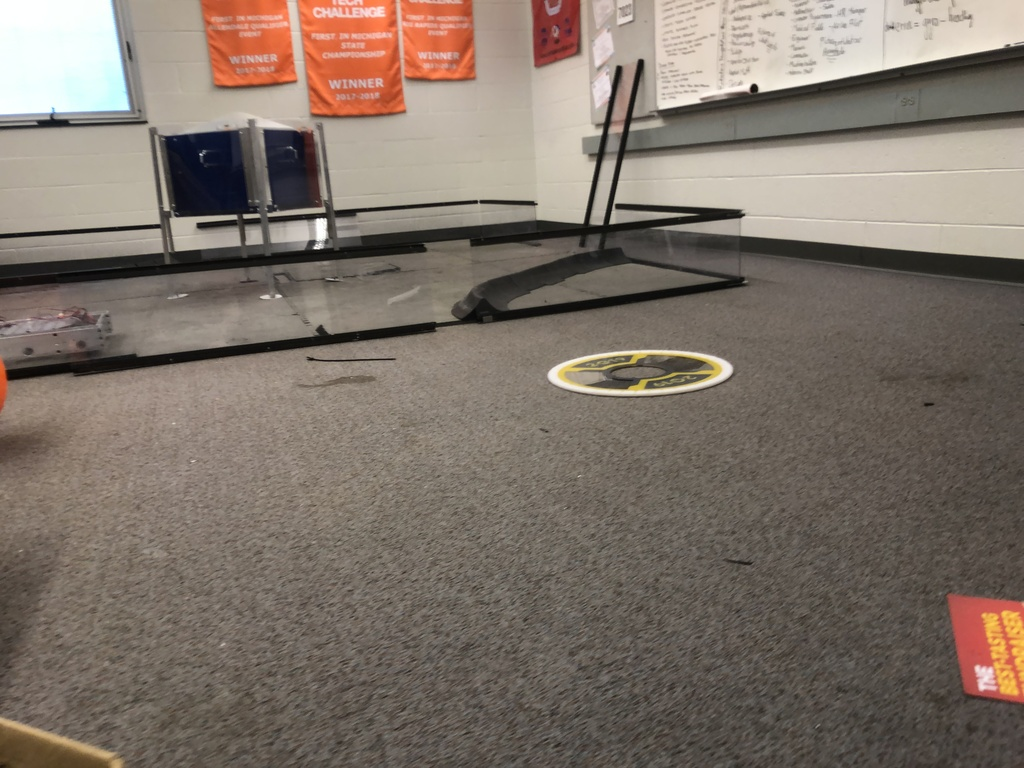hatch_panel: (540, 342, 736, 403)
